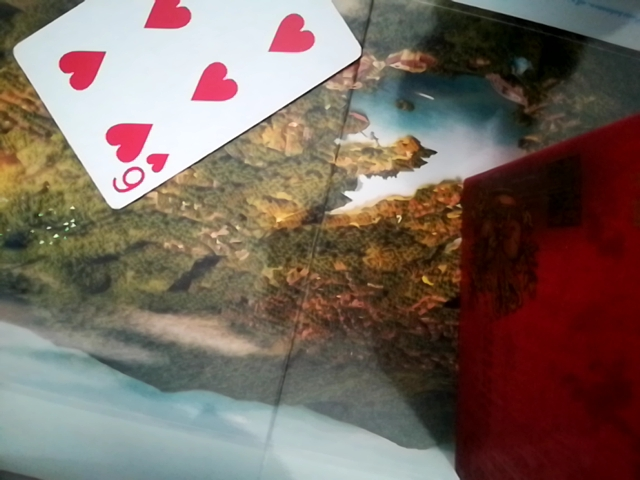hx 6: (12, 3, 360, 219)
